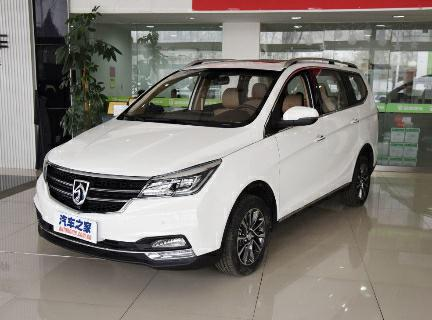宝骏-730: (25, 52, 386, 282)
